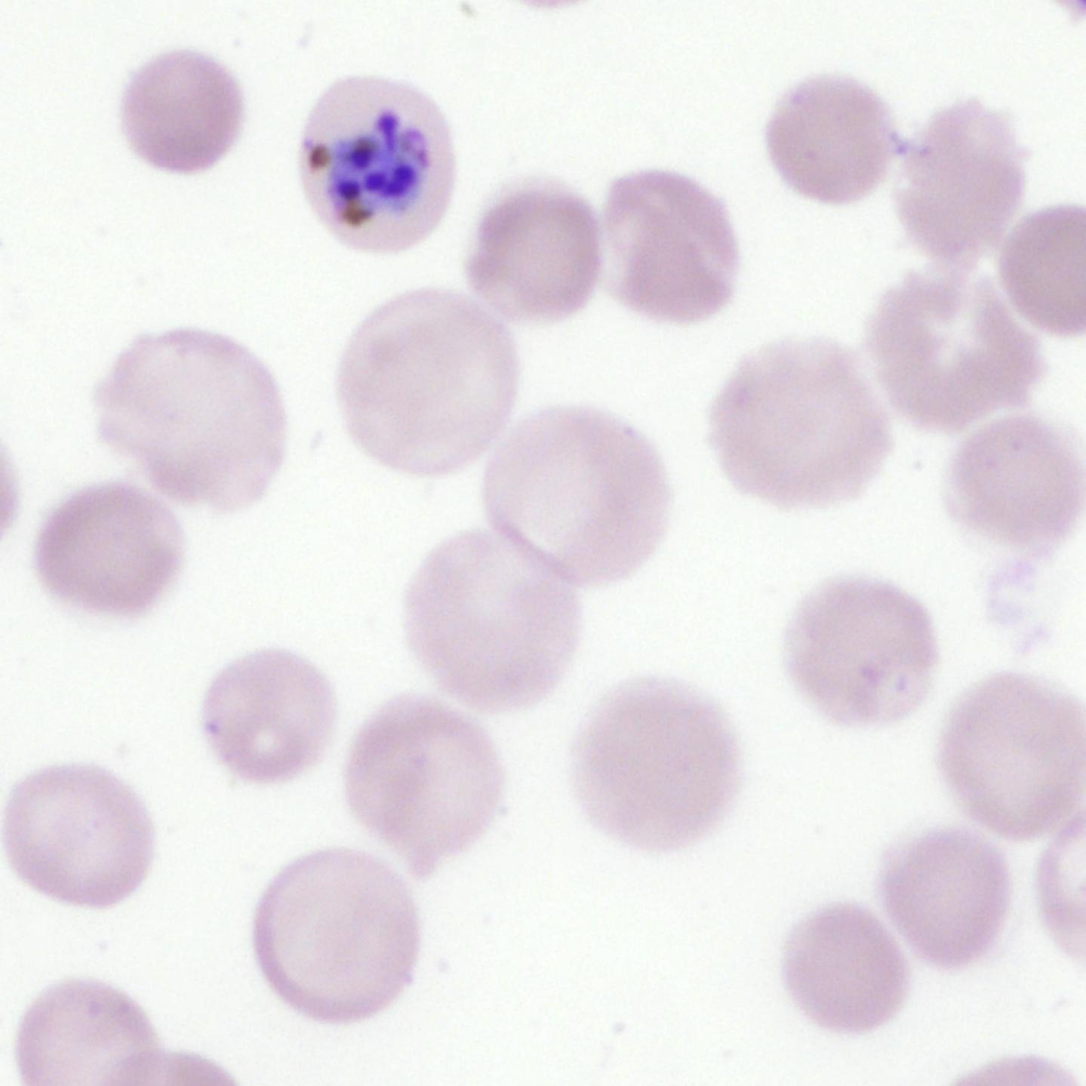Infected: (297, 71, 456, 253)
Uninfected: (96, 320, 282, 511), (478, 401, 674, 580), (335, 285, 520, 472), (395, 524, 577, 707), (712, 330, 887, 508), (868, 260, 1043, 437), (252, 846, 416, 1023), (569, 678, 730, 855), (345, 690, 501, 865), (775, 572, 936, 716), (0, 761, 149, 914), (939, 680, 1086, 830), (33, 476, 179, 625), (463, 167, 599, 326), (898, 89, 1025, 259), (599, 172, 743, 315), (878, 818, 1010, 969), (201, 645, 335, 785), (775, 899, 907, 1036), (946, 411, 1086, 540), (762, 69, 897, 199), (121, 51, 245, 179), (15, 972, 154, 1086), (996, 207, 1086, 342)
